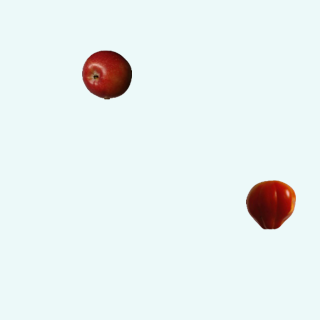Apple Braeburn: (81, 49, 131, 99)
Tomato 1: (245, 179, 295, 229)
